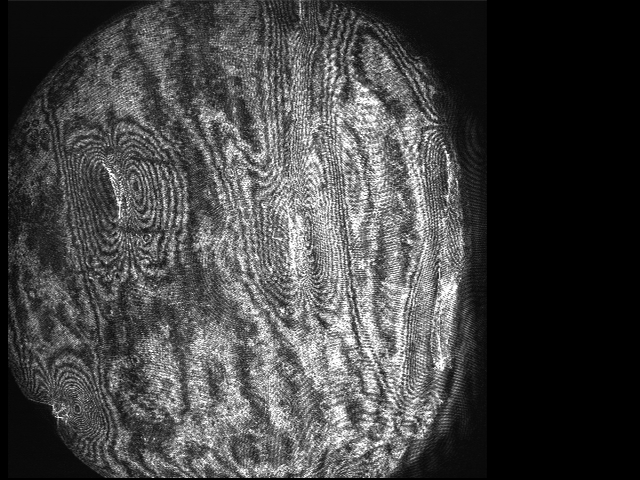plume: (66, 118, 183, 268)
